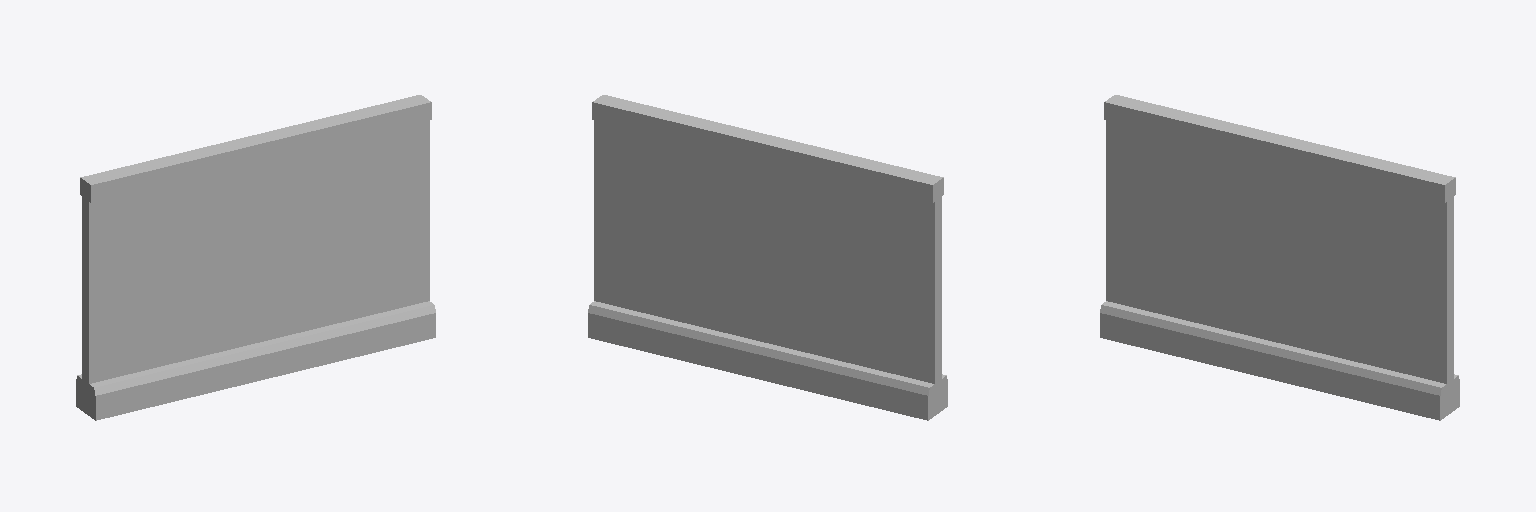
File: fenceStoneStraight.obj
The picture shows the model from 3 angles: view 1: azimuth 30°, elevation 25°; view 2: azimuth 150°, elevation 25°; view 3: azimuth 330°, elevation 25°; orthographic projection.
Visible parts, largest first — view 1: fenceStoneStraight; view 2: fenceStoneStraight; view 3: fenceStoneStraight.
Part boxes in pixels (x1,y1,x2,y2): fenceStoneStraight: (76,95,435,420); fenceStoneStraight: (588,95,947,420); fenceStoneStraight: (1100,95,1459,420).
Bounding box in the file's own units: 1 × 0.6519 × 0.1.